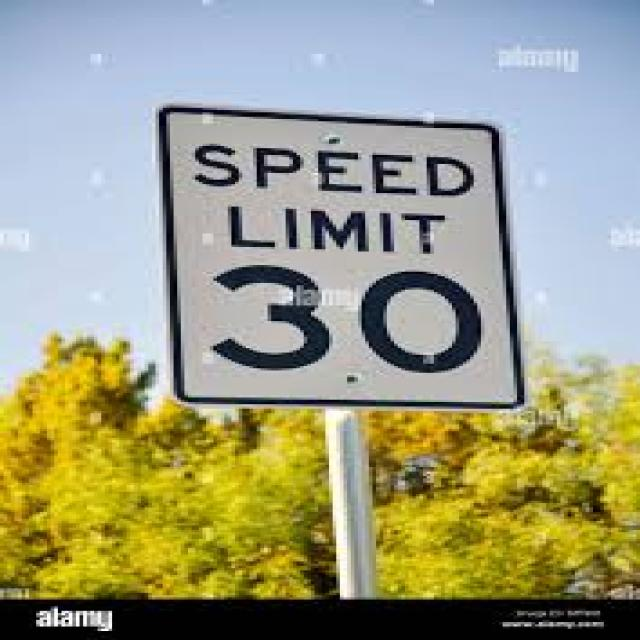speedLimit30: (181, 104, 517, 412)
